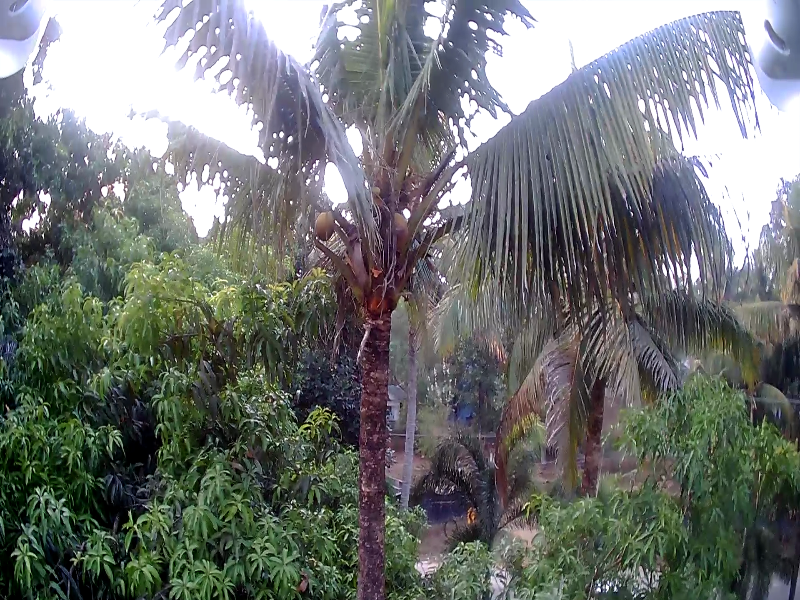coconut: (308, 212, 337, 241), (388, 210, 408, 235)
